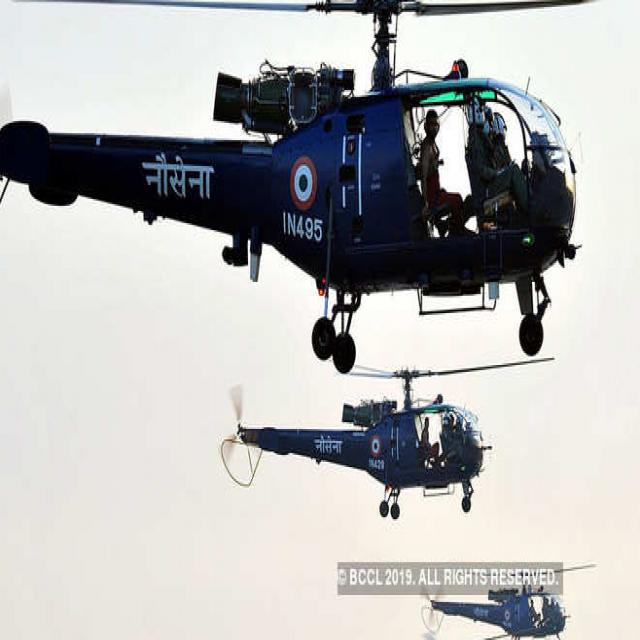helicopter: (1, 1, 582, 371), (221, 363, 556, 518), (426, 549, 576, 640), (323, 629, 498, 640)
